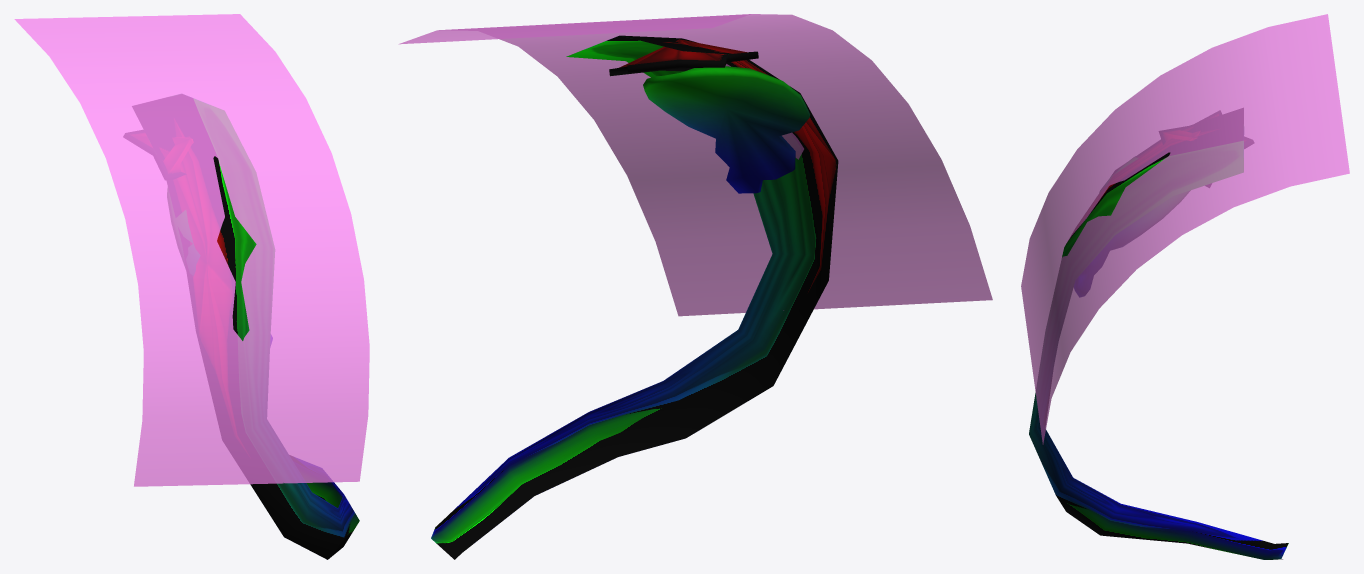
3 views of the same model, side by side, from view 1: azimuth 30°, elevation 25°; view 2: azimuth 150°, elevation 25°; view 3: azimuth 270°, elevation 25° (orthographic). The views are drawn at different scales.
Parts seen in each view (by area): view 1: Plane02, "Editable Poly", K1221; view 2: Plane02, "Editable Poly", K1221; view 3: Plane02, "Editable Poly", K1221.
Boxes of the visible parts, x1,y1,x2,y2 form: Plane02: (14, 14, 369, 486); "Editable Poly": (132, 94, 359, 559); K1221: (123, 130, 272, 342); Plane02: (398, 14, 992, 316); "Editable Poly": (431, 35, 838, 559); K1221: (609, 39, 810, 193); Plane02: (1021, 14, 1349, 444); "Editable Poly": (1029, 108, 1288, 559); K1221: (1074, 111, 1253, 296).
Bounding box in the file's own units: 0.3862 × 0.6074 × 0.4067.
